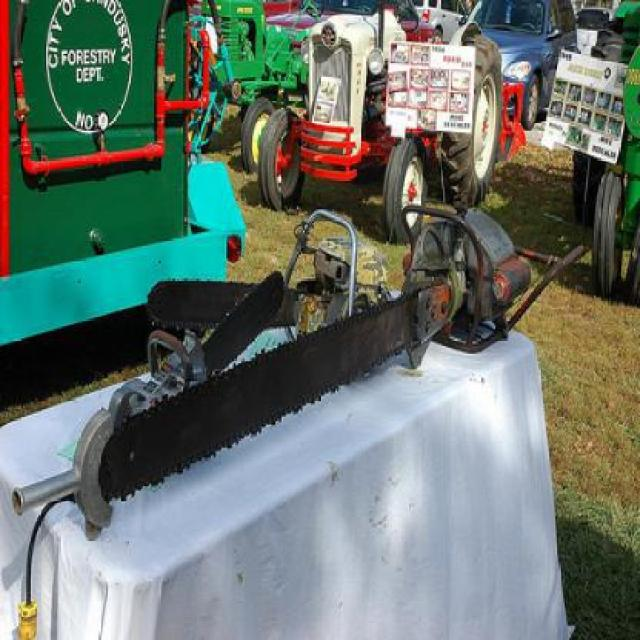Chainsaw: (20, 194, 552, 535), (146, 210, 391, 338), (111, 268, 286, 423)
